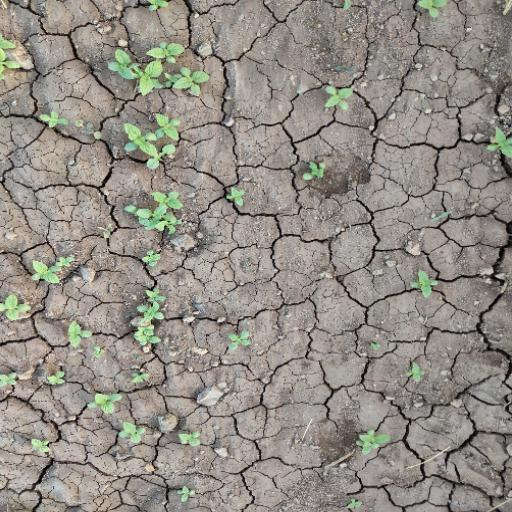crop: (81, 391, 151, 446), (117, 112, 184, 168), (120, 188, 185, 242), (122, 282, 163, 356), (24, 250, 78, 292), (406, 263, 439, 307), (349, 422, 392, 455), (37, 362, 77, 396), (323, 80, 355, 115), (60, 316, 89, 353), (295, 155, 328, 184), (222, 180, 250, 211)
